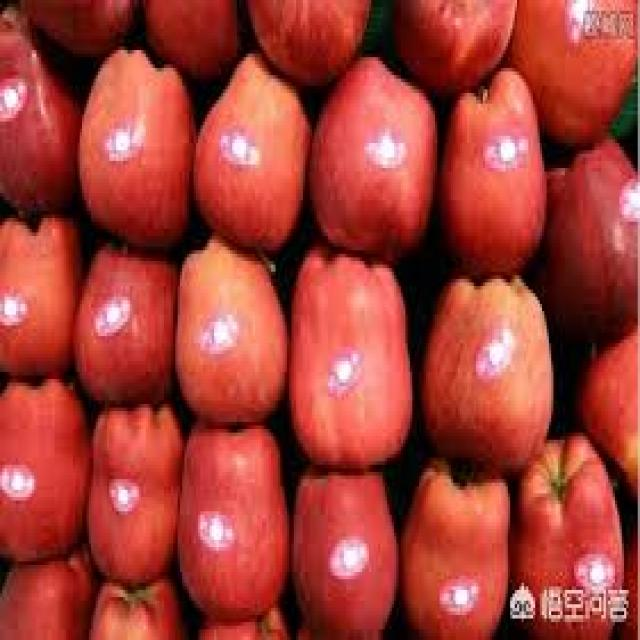organic waste: (285, 243, 410, 472), (415, 272, 551, 476), (307, 50, 435, 261), (508, 426, 622, 636), (75, 43, 194, 243), (173, 415, 287, 622), (189, 43, 303, 247), (171, 225, 285, 422), (435, 57, 540, 268), (540, 128, 638, 340), (68, 225, 175, 408), (396, 462, 508, 636), (82, 397, 184, 583), (506, 0, 638, 143), (289, 462, 396, 636), (0, 372, 89, 565), (0, 4, 80, 211), (0, 208, 80, 382), (569, 315, 638, 504), (387, 0, 517, 79), (244, 0, 366, 82), (0, 544, 89, 636), (141, 0, 237, 79), (16, 0, 134, 54), (84, 576, 189, 636), (191, 600, 285, 636), (620, 508, 638, 636), (292, 618, 308, 636)
